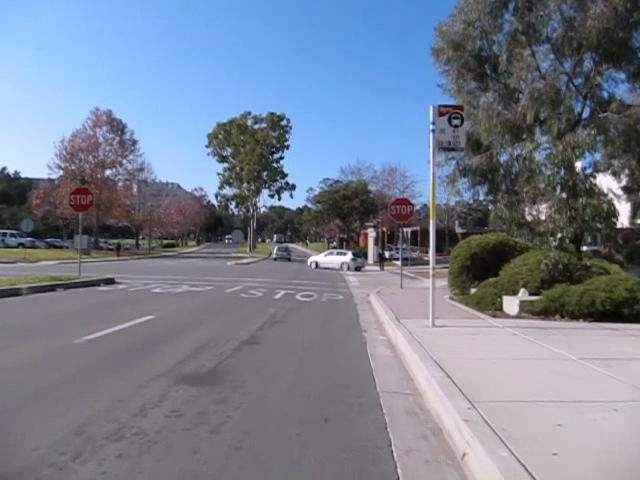stop: (67, 185, 95, 213), (388, 197, 415, 223)
